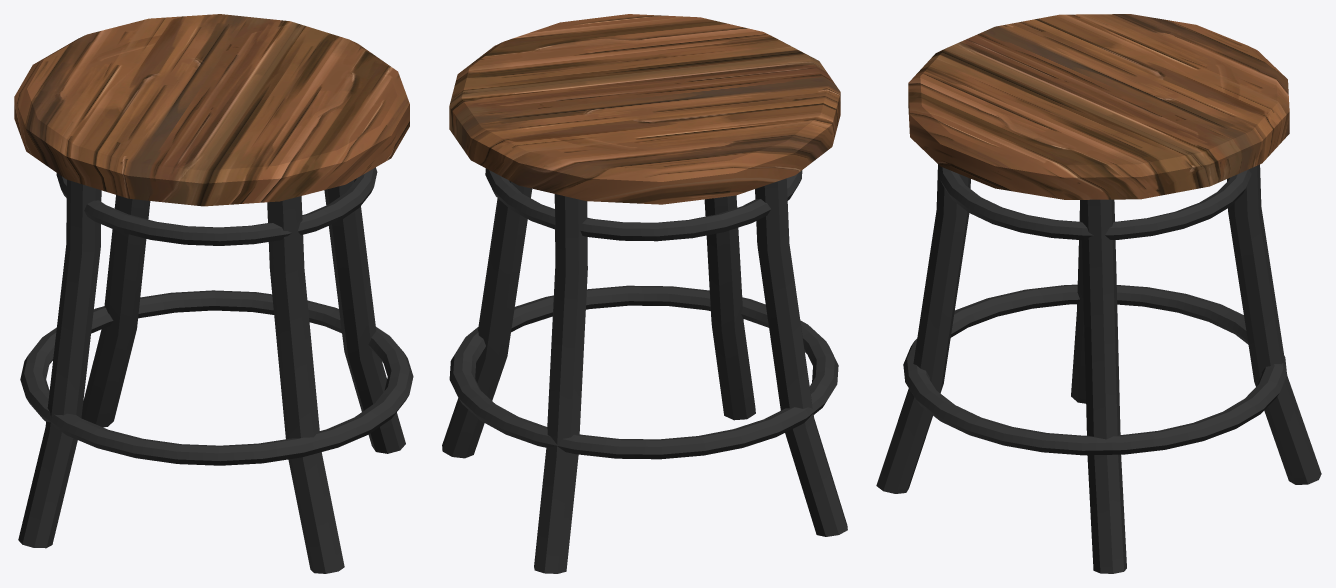
Rendered from Stool_2.fbx.
3 views of the same model, side by side, from view 1: azimuth 30°, elevation 25°; view 2: azimuth 150°, elevation 25°; view 3: azimuth 270°, elevation 25° (orthographic). The views are drawn at different scales.
Parts seen in each view (by area): view 1: 1_Stool_2; view 2: 1_Stool_2; view 3: 1_Stool_2.
Boxes of the visible parts, left/top/right/bottom form: 1_Stool_2: left=14, top=14, right=413, bottom=573; 1_Stool_2: left=442, top=14, right=847, bottom=573; 1_Stool_2: left=876, top=14, right=1321, bottom=573.
Bounding box in the file's own units: 41.46 × 40.6 × 41.46.
